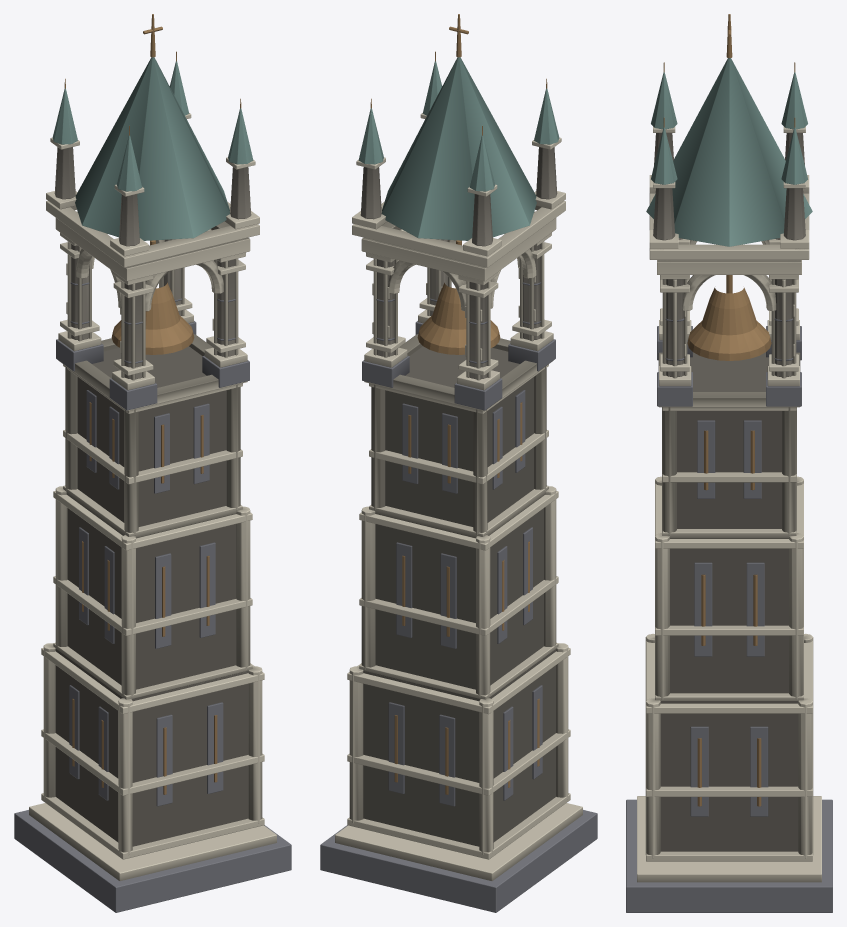
Rendered from falling-tower.glb.
3 views of the same model, side by side, from view 1: azimuth 30°, elevation 25°; view 2: azimuth 150°, elevation 25°; view 3: azimuth 270°, elevation 25° (orthographic).
Visible parts, largest first — view 1: falling-tower__pale, falling-tower__limestone, falling-tower__shadow, falling-tower__copper, falling-tower__bronze; view 2: falling-tower__pale, falling-tower__limestone, falling-tower__shadow, falling-tower__copper, falling-tower__bronze; view 3: falling-tower__limestone, falling-tower__pale, falling-tower__copper, falling-tower__shadow, falling-tower__bronze.
Part boxes in pixels (left/top/right/bottom): falling-tower__pale: left=29, top=113, right=276, bottom=880; falling-tower__limestone: left=54, top=147, right=251, bottom=846; falling-tower__shadow: left=14, top=282, right=291, bottom=912; falling-tower__copper: left=52, top=57, right=253, bottom=240; falling-tower__bronze: left=64, top=14, right=241, bottom=794; falling-tower__pale: left=335, top=113, right=582, bottom=880; falling-tower__limestone: left=360, top=147, right=557, bottom=846; falling-tower__shadow: left=320, top=282, right=597, bottom=912; falling-tower__copper: left=358, top=57, right=559, bottom=240; falling-tower__bronze: left=370, top=14, right=547, bottom=794; falling-tower__limestone: left=653, top=133, right=805, bottom=851; falling-tower__pale: left=637, top=126, right=821, bottom=882; falling-tower__copper: left=646, top=58, right=812, bottom=246; falling-tower__shadow: left=626, top=318, right=832, bottom=912; falling-tower__bronze: left=663, top=14, right=795, bottom=806.
Size of the model in its own units: 57 by 260 by 57.
